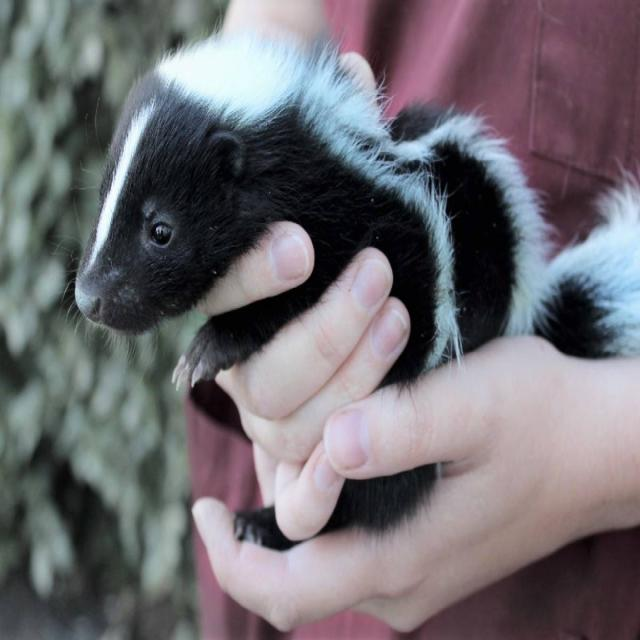Skunk: (63, 30, 640, 552)
